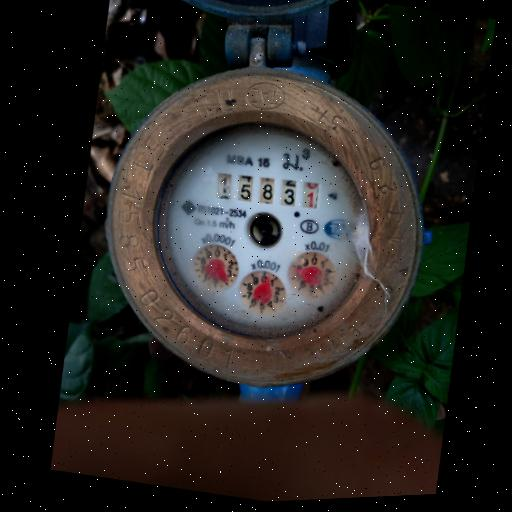1: (298, 180, 321, 210), (214, 171, 236, 201)
3: (278, 178, 300, 207)
5: (235, 174, 257, 203)
8: (256, 176, 277, 206)
border_water_meter_number: (209, 159, 329, 222)
